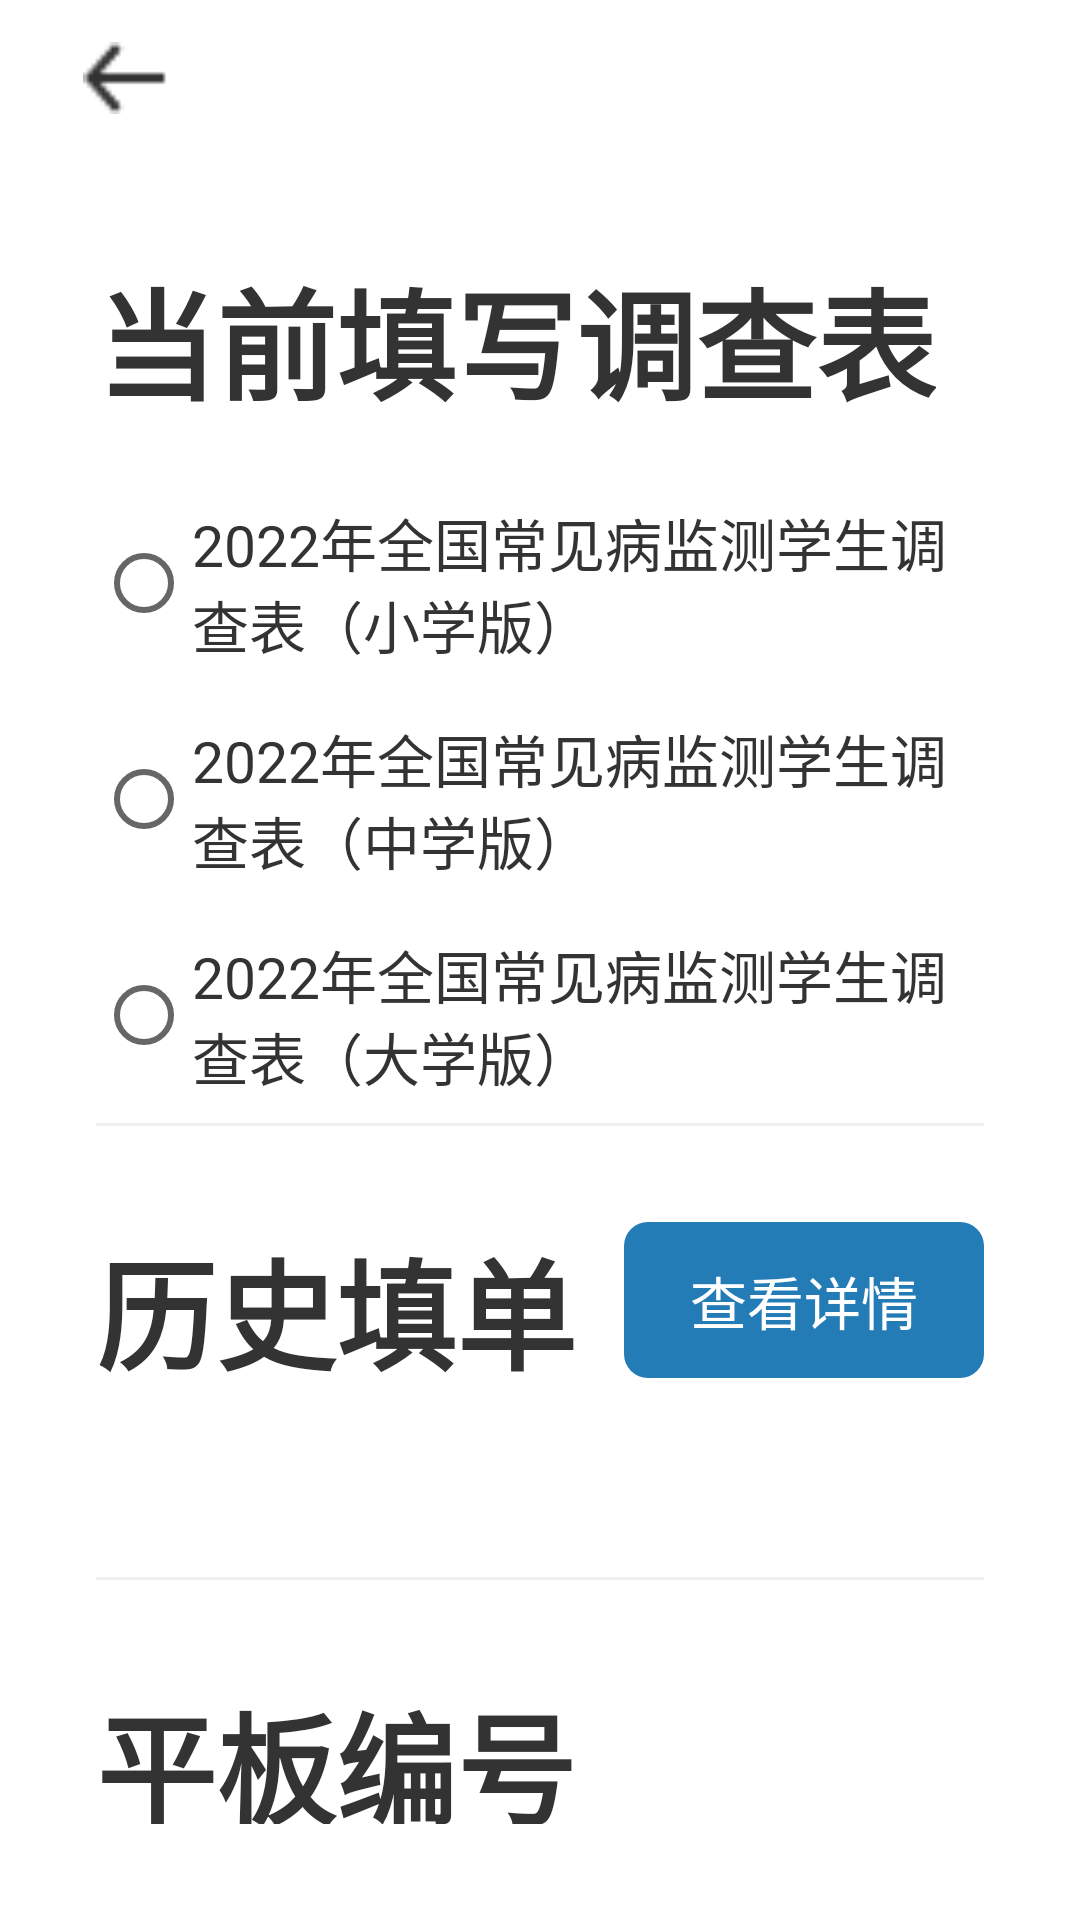

Icon bounding boxes for this 1080×1920 phone screenshot, format (x1, y1, x2, y2):
back: (83, 42, 166, 114)
